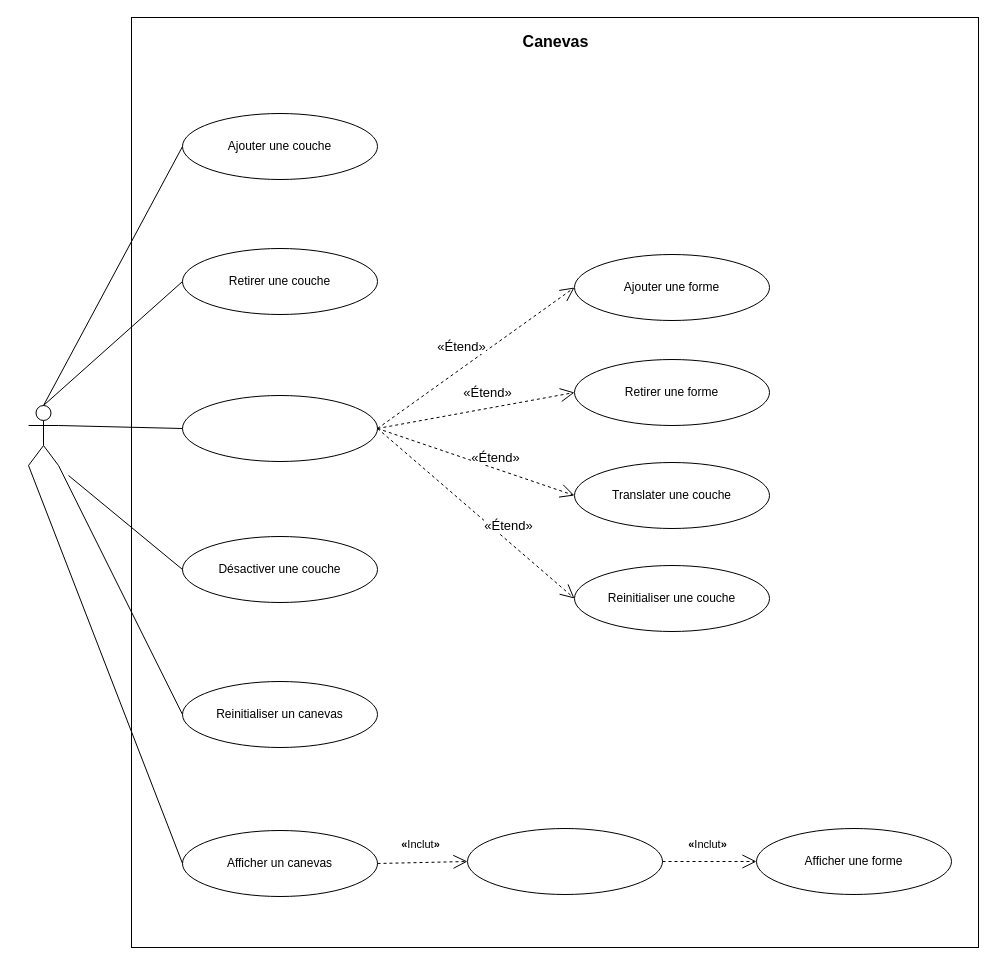
This 996x965 diagram has some shape labels left out. Each missing label, with the centre of its shape:
"Activer une couche" goes at [280,428].
"Afficher une couche" goes at [564,861].
"Utilisateur" goes at [43,435].
